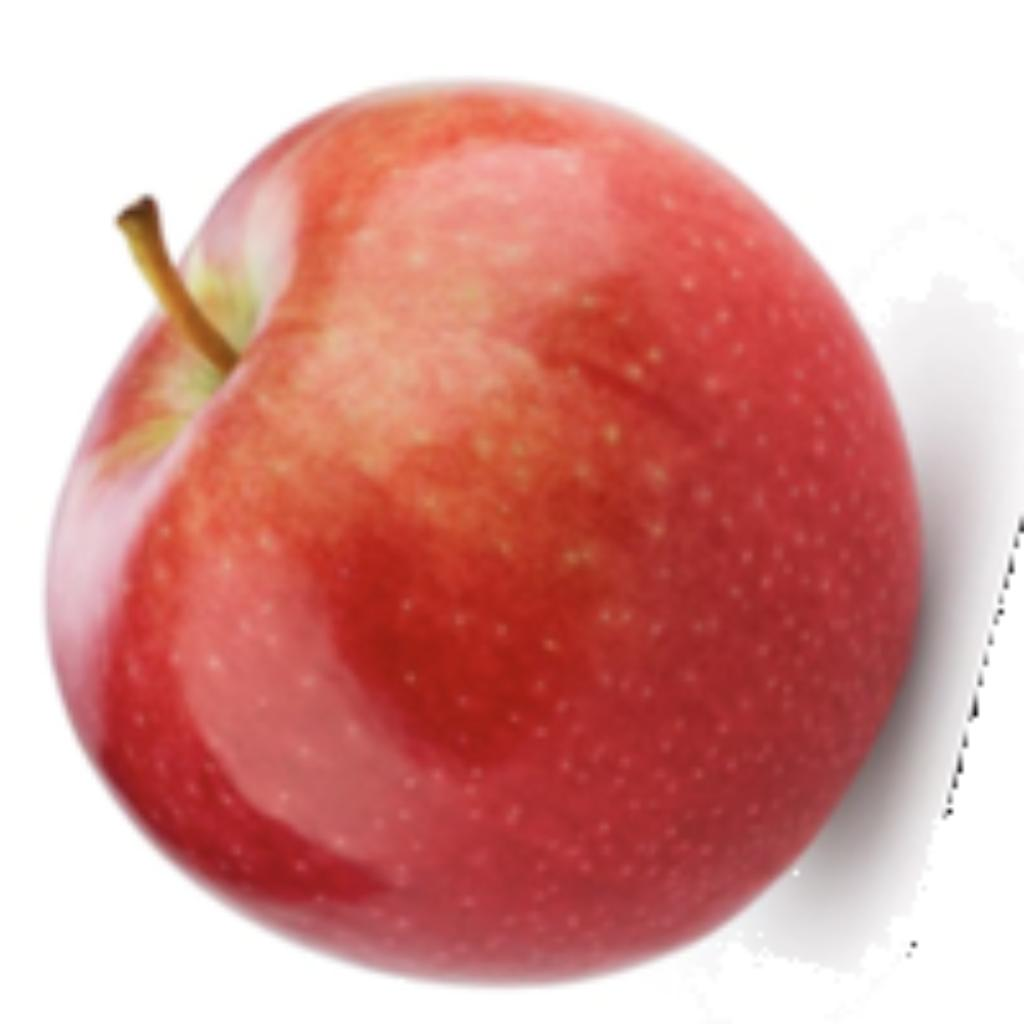apple: (36, 72, 1019, 993)
